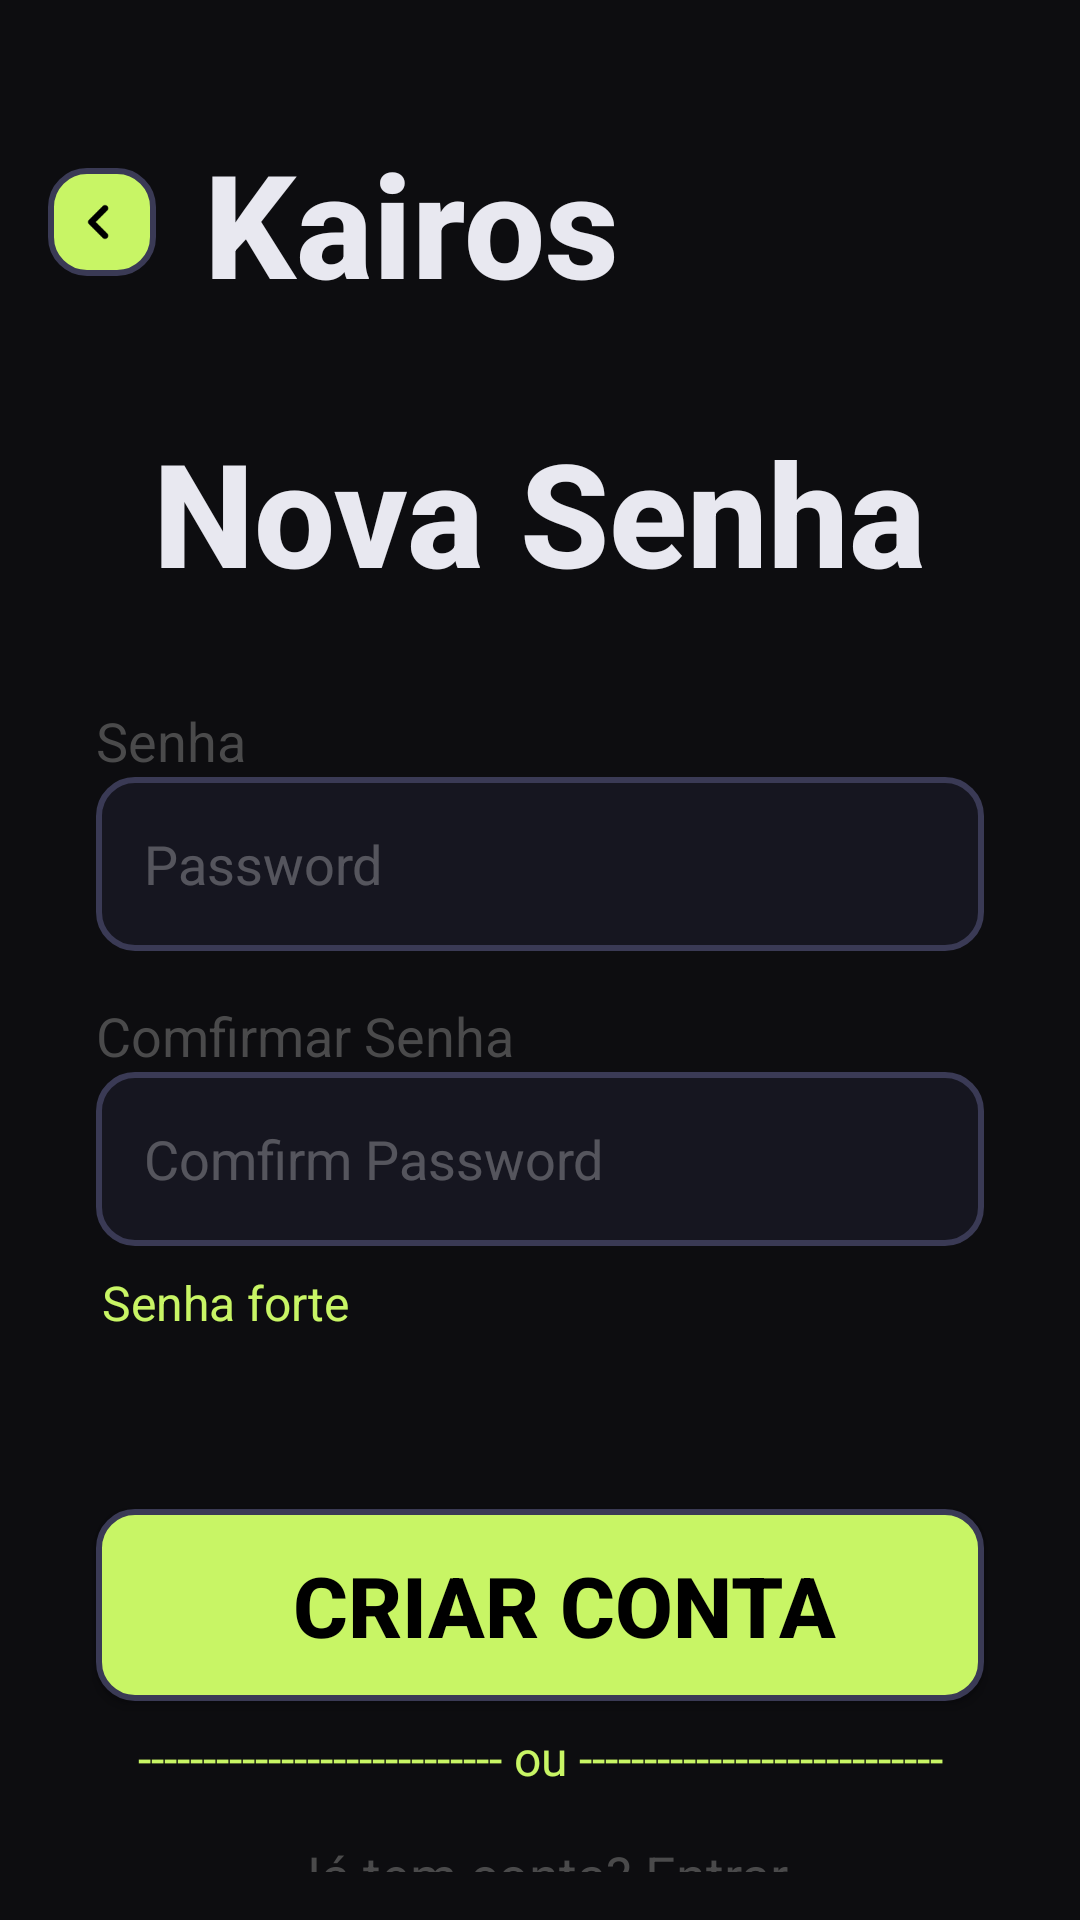

Screen size 1080w x 1920h. Icon name, then its center in pixels as (x=x, y=y):
Voltar: (x=102, y=222)
